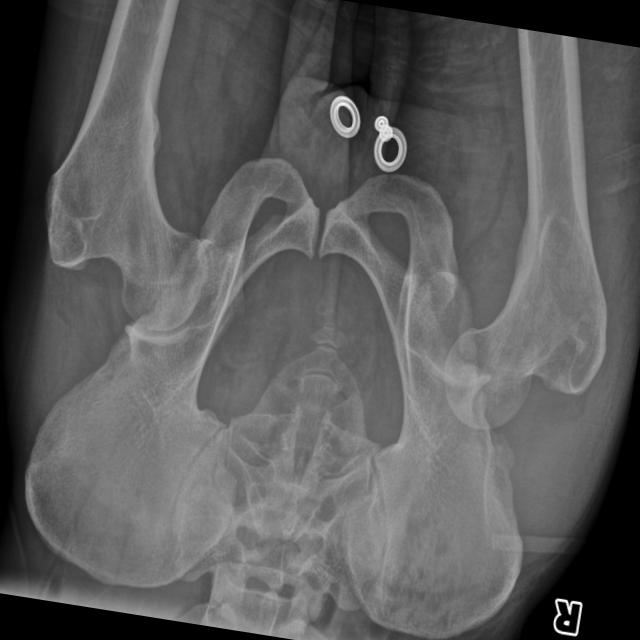normal-left: (42, 22, 207, 331)
right-dislocation: (442, 107, 606, 428)
